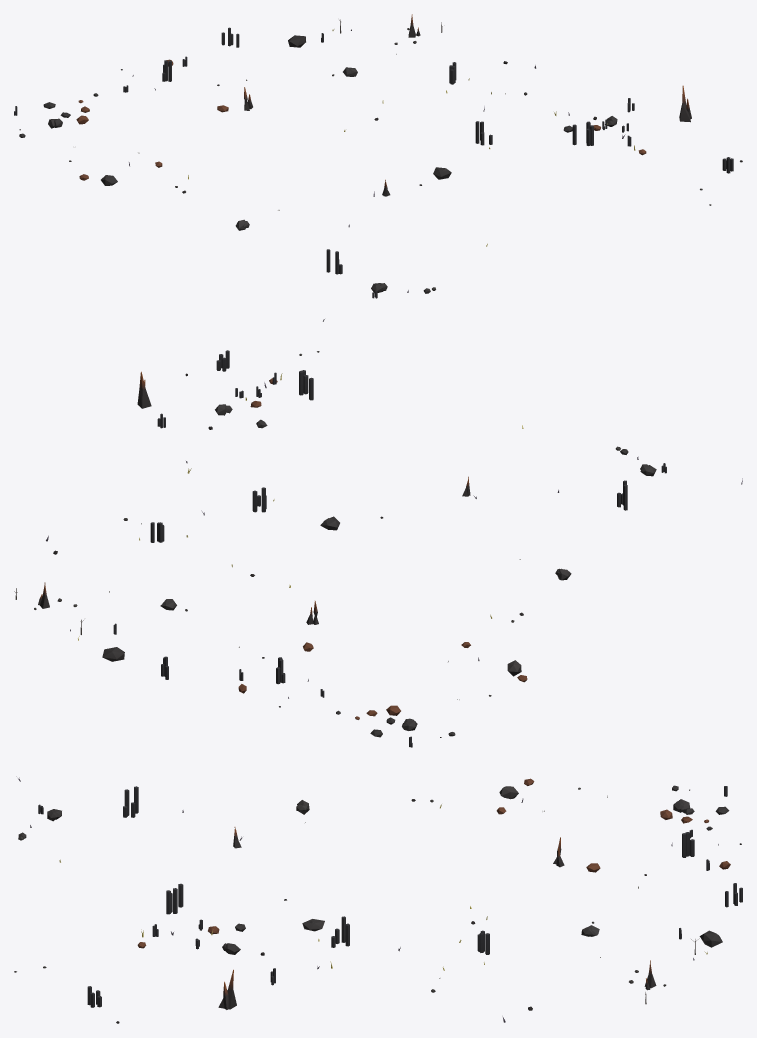
Rendered from ash_land_scatter_c21_30_lod1.glb.
The picture shows the model from 3 angles, top to bottom: view 1: azimuth 30°, elevation 25°; view 2: azimuth 150°, elevation 25°; view 3: azimuth 270°, elevation 25°; orthographic projection. The views are drawn at different scales.
Parts seen in each view (by area): view 1: ash_land_scatter_c21_30_lod1; view 2: ash_land_scatter_c21_30_lod1; view 3: ash_land_scatter_c21_30_lod1.
Part boxes in pixels (x1,y1,x2,y2): ash_land_scatter_c21_30_lod1: [14, 14, 742, 321]; ash_land_scatter_c21_30_lod1: [14, 350, 742, 747]; ash_land_scatter_c21_30_lod1: [14, 776, 742, 1023].
Bounding box in the file's own units: 228 × 39.22 × 255.
